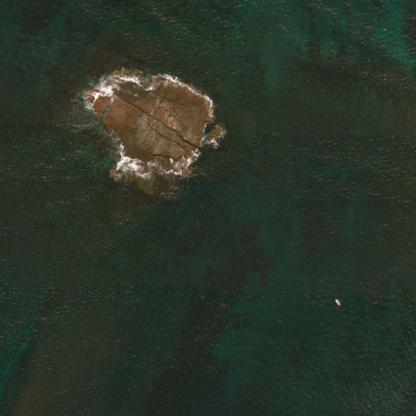ship: (334, 298, 340, 306)
